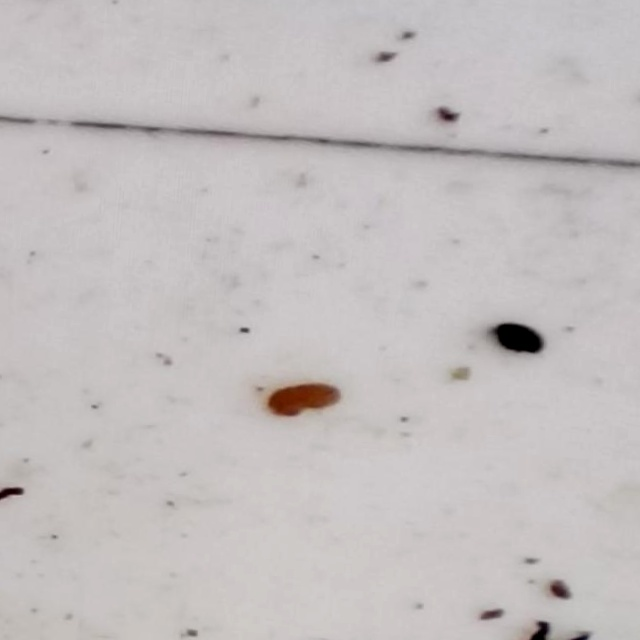varroa: (490, 322, 545, 358)
